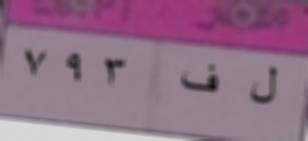3: (101, 56, 128, 90)
7: (25, 48, 47, 78)
9: (64, 50, 83, 83)
faa: (181, 63, 221, 96)
laam: (248, 58, 279, 110)
